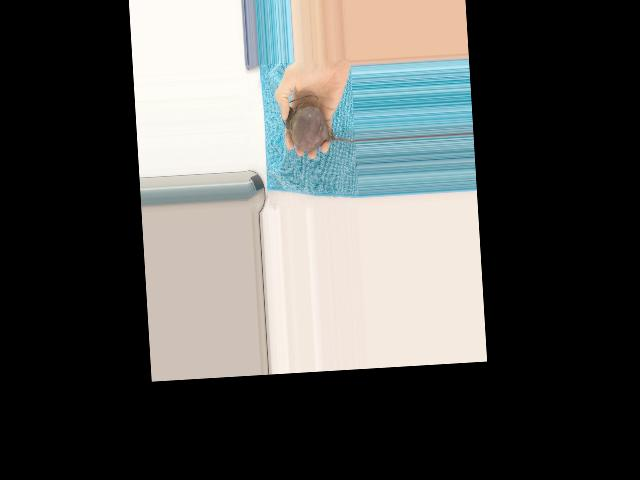beet: (281, 93, 356, 153)
